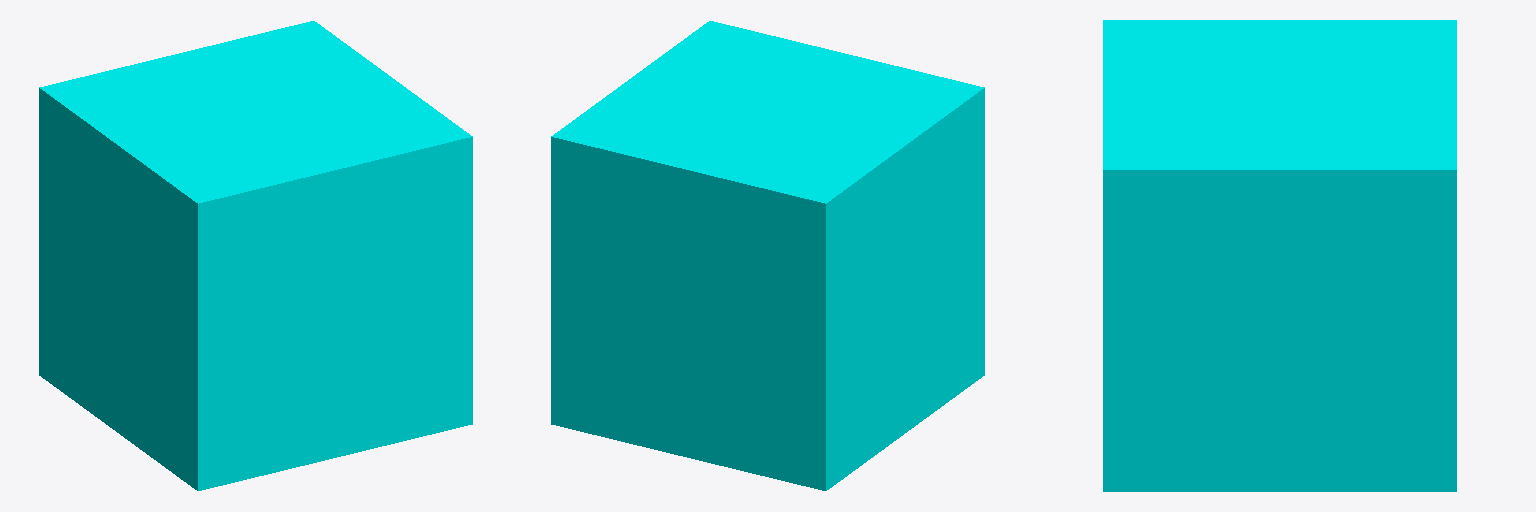
robot.urdf — robot_rectangle:
<?xml version="1.0" ?>
<robot name="robot_rectangle">
    <link name="base">
        <visual>
            <origin xyz="0 0 0.05" rpy="0 0 0"/>
            <geometry>
            <box size="0.1 0.1 0.1"/>  <!-- Dimensions 0.1 m x 0.1 m x 0.1m -->
            </geometry>
            <material name="blue">
            <color rgba="0 1 1 1"/>  <!-- Couleur cyan pour le robot -->
            </material>
        </visual>
		
        <collision>
            <origin xyz="0 0 0.05" rpy="0 0 0"/>
            <geometry>
                <box size="0.1 0.1 0.1"/>  <!-- Dimensions 0.1 m x 0.1 m x 0.1m -->
            </geometry>
        </collision>
		
		<!-- Inertial properties: Mass and Inertia -->
        <inertial>
            <mass value="0.5"/>  <!-- Masse à 500g -->
            <inertia ixx="0.001" ixy="0" ixz="0" iyy="0.001" iyz="0" izz="0.001"/> <!-- Inertie ajustée -->
        </inertial>
		
    </link>
</robot>

--- Render facts (derived) ---
Views: 3 orthographic renders of the robot side by side, from view 1: azimuth 30°, elevation 25°; view 2: azimuth 150°, elevation 25°; view 3: azimuth 270°, elevation 25°.
Robot: robot_rectangle — 1 links, 0 joints (none); root link base; default pose: every joint at zero.
Links seen in each view (by area): view 1: base; view 2: base; view 3: base.
Link boxes in pixels (left/top/right/bottom): base: left=39, top=21, right=472, bottom=490; base: left=551, top=21, right=984, bottom=490; base: left=1103, top=20, right=1456, bottom=491.
Size in the robot's own frame: 0.1 by 0.1 by 0.1 metres.
Geometry: primitives only (box / cylinder / sphere), no mesh files.